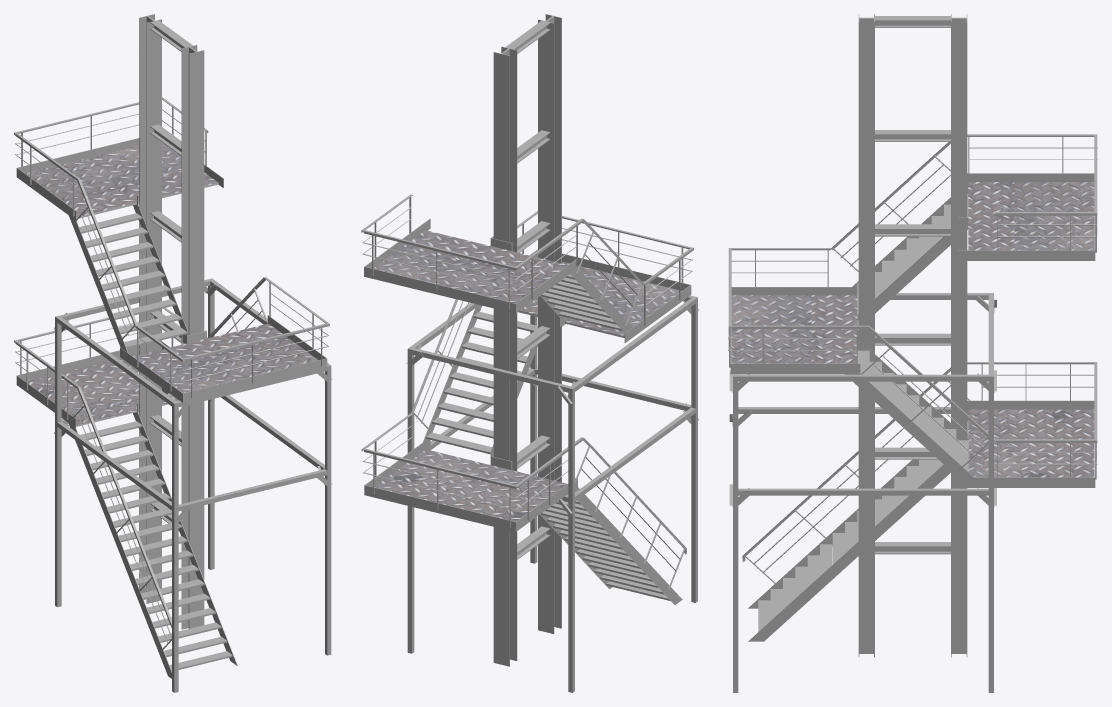
The model's file is Ladder.fbx.
3 views of the same model, side by side, from view 1: azimuth 30°, elevation 25°; view 2: azimuth 150°, elevation 25°; view 3: azimuth 270°, elevation 25° (orthographic). The views are drawn at different scales.
Visible parts, largest first — view 1: polySurface33, polySurface121, polySurface170, polySurface4, polySurface167, polySurface149, polySurface110, polySurface22, polySurface146, polySurface169, polySurface166, polySurface56 (+18 smaller); view 2: polySurface121, polySurface4, polySurface166, polySurface169, polySurface145, polySurface148, polySurface110, polySurface33, polySurface3, polySurface22, polySurface57, polySurface56 (+16 smaller); view 3: polySurface121, polySurface33, polySurface4, polySurface165, polySurface168, polySurface22, polySurface144, polySurface147, polySurface110, polySurface3, polySurface2, polySurface63 (+11 smaller).
Part boxes in pixels (bbox=[...]): polySurface33: bbox=[133, 323, 318, 393]; polySurface121: bbox=[25, 142, 218, 218]; polySurface170: bbox=[188, 50, 204, 334]; polySurface4: bbox=[26, 354, 178, 426]; polySurface167: bbox=[146, 19, 161, 313]; polySurface149: bbox=[188, 401, 204, 628]; polySurface110: bbox=[16, 138, 223, 352]; polySurface22: bbox=[120, 315, 327, 402]; polySurface146: bbox=[146, 310, 161, 603]; polySurface169: bbox=[181, 45, 197, 339]; polySurface166: bbox=[139, 14, 154, 306]; polySurface56: bbox=[172, 401, 178, 692]; polySurface121: bbox=[373, 230, 567, 303]; polySurface4: bbox=[374, 449, 566, 521]; polySurface166: bbox=[493, 52, 509, 361]; polySurface169: bbox=[538, 19, 554, 328]; polySurface145: bbox=[493, 357, 509, 666]; polySurface148: bbox=[538, 325, 554, 633]; polySurface110: bbox=[364, 218, 632, 332]; polySurface33: bbox=[518, 261, 681, 337]; polySurface3: bbox=[364, 439, 577, 531]; polySurface22: bbox=[422, 249, 691, 442]; polySurface57: bbox=[568, 386, 574, 692]; polySurface56: bbox=[691, 296, 697, 602]; polySurface121: bbox=[968, 182, 1094, 250]; polySurface33: bbox=[731, 295, 857, 363]; polySurface4: bbox=[968, 409, 1094, 477]; polySurface165: bbox=[951, 17, 966, 336]; polySurface168: bbox=[859, 17, 873, 336]; polySurface22: bbox=[730, 287, 973, 477]; polySurface144: bbox=[951, 336, 966, 653]; polySurface147: bbox=[859, 336, 873, 653]; polySurface110: bbox=[852, 173, 1095, 287]; polySurface3: bbox=[958, 400, 1095, 487]; polySurface2: bbox=[748, 434, 968, 641]; polySurface63: bbox=[738, 488, 988, 495].
Size of the model in its own units: 7.91 by 27.94 by 14.74.
Materials: 8 (6 with a texture image).
